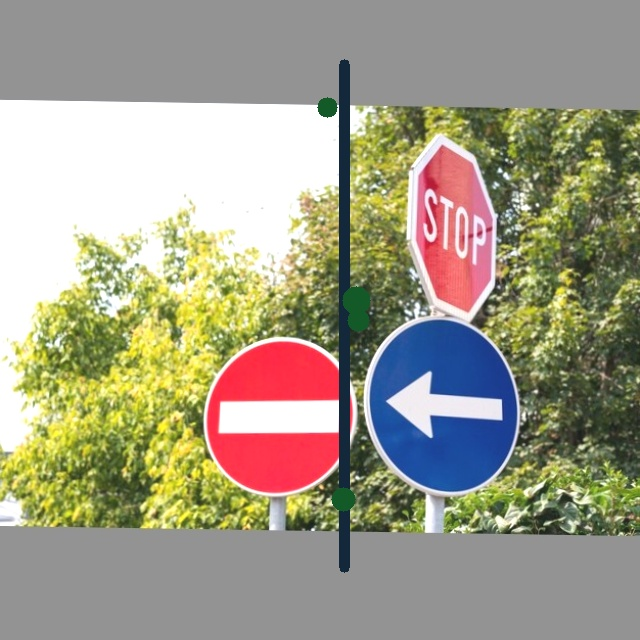Compulsory_Turn_Left: (364, 310, 523, 500)
